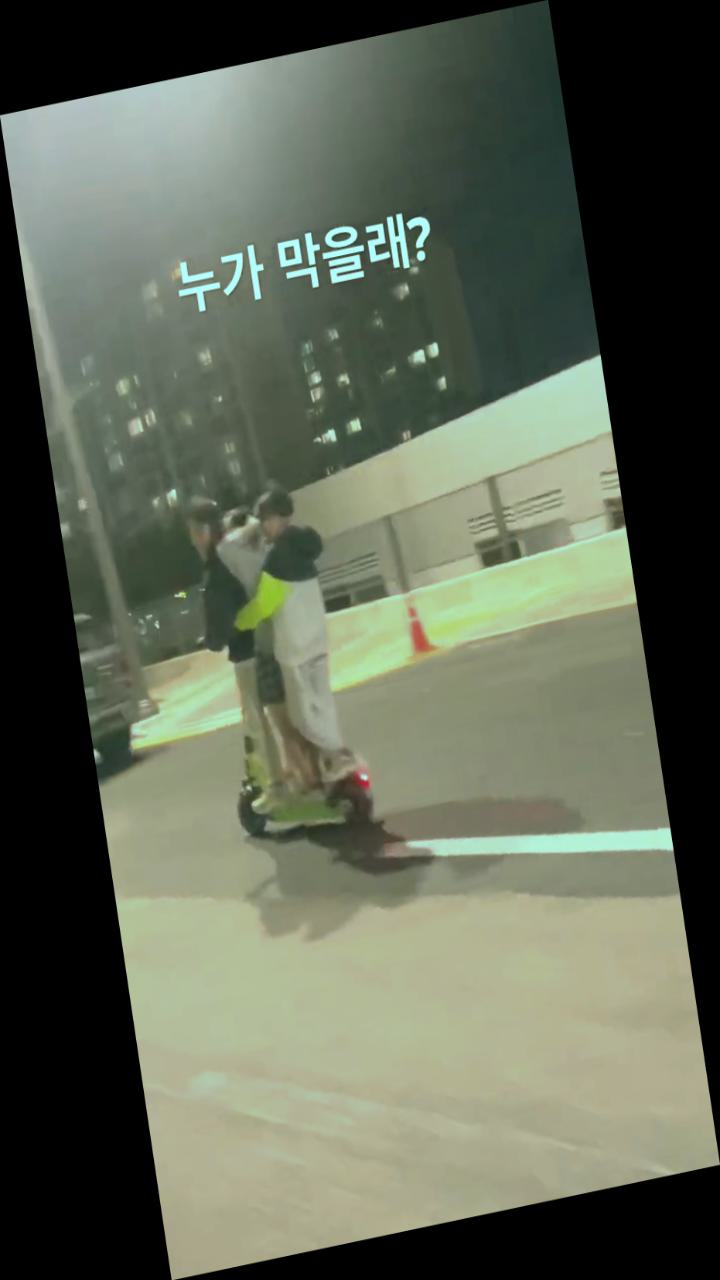multiple: (176, 467, 384, 860)
